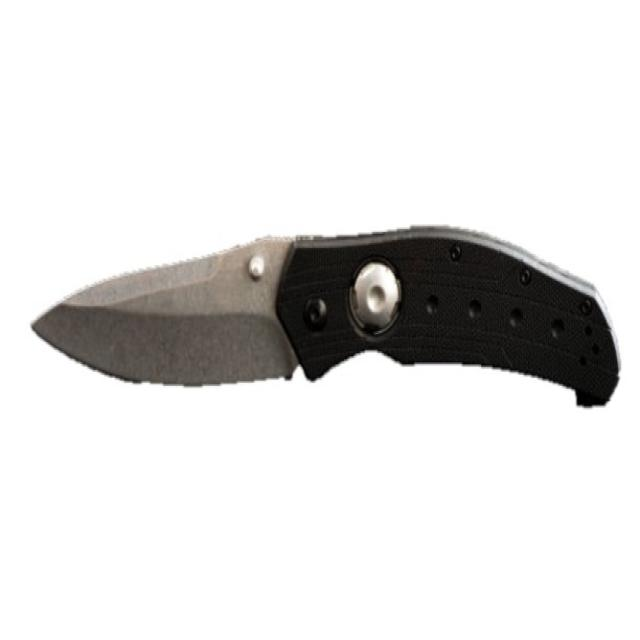knife: (28, 208, 627, 421)
